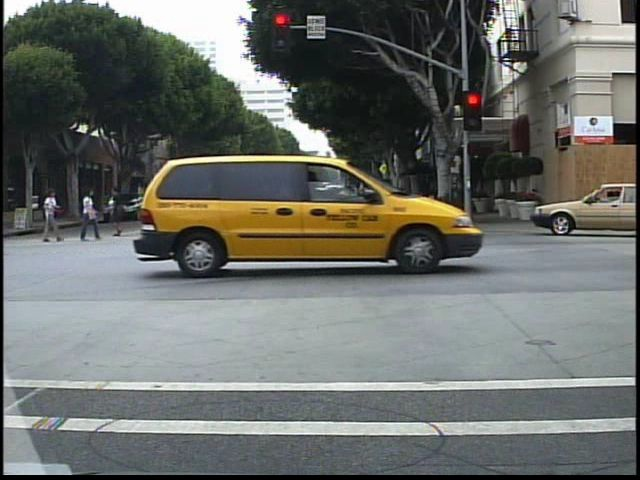person: (154, 172, 181, 240), (286, 169, 313, 237), (73, 186, 103, 243), (219, 180, 246, 237), (36, 189, 62, 246), (107, 185, 131, 239), (180, 184, 203, 237)
